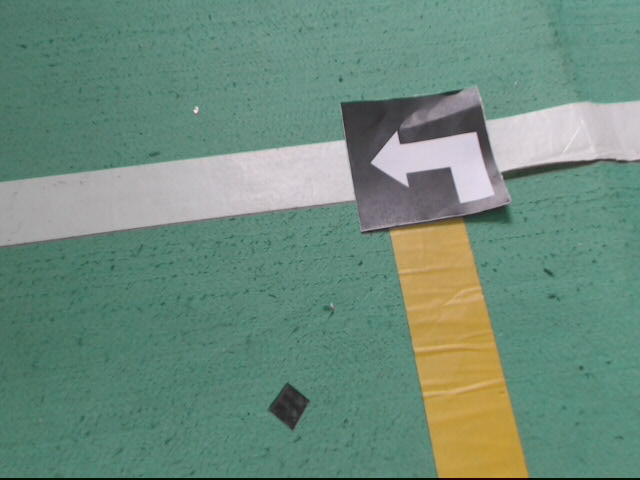left: (338, 84, 510, 233)
